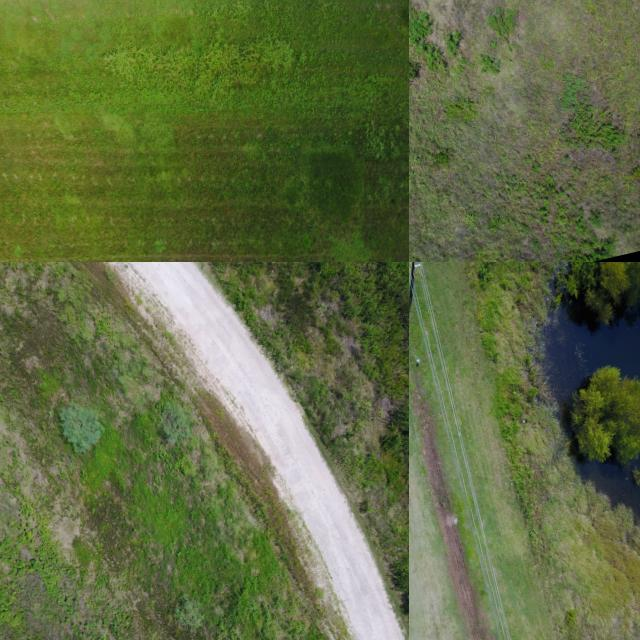fire: (544, 305, 640, 405)
